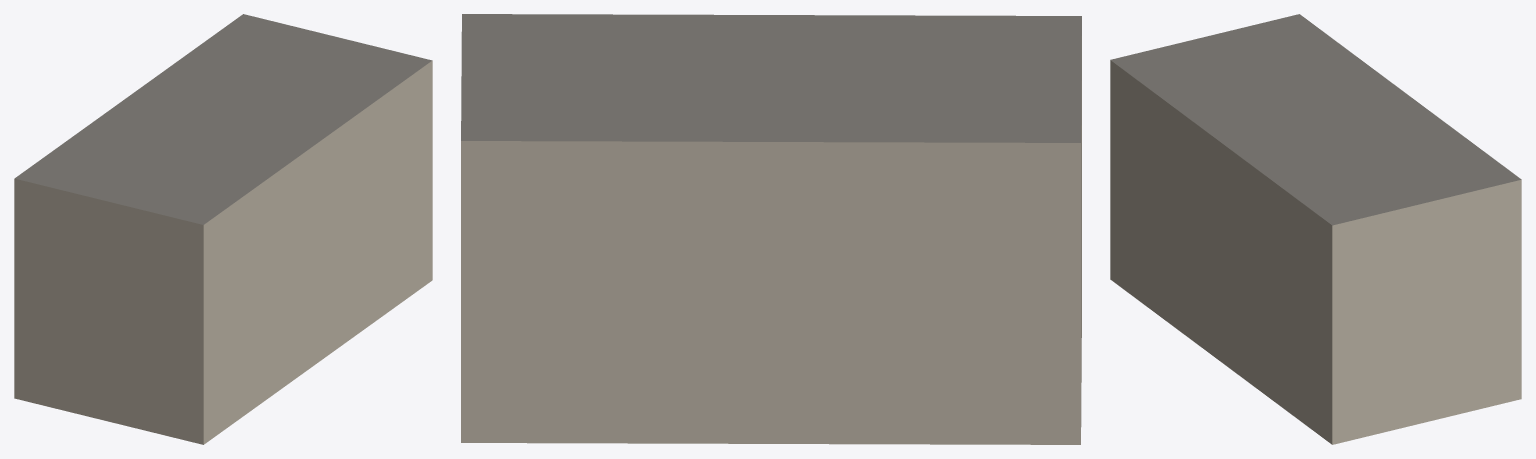
The picture shows the model from 3 angles, left to right: view 1: azimuth 30°, elevation 25°; view 2: azimuth 150°, elevation 25°; view 3: azimuth 270°, elevation 25°; orthographic projection. The views are drawn at different scales.
Parts seen in each view (by area): view 1: HP-w859082582; view 2: HP-w859082582; view 3: HP-w859082582.
Part boxes in pixels (box(x1,y1,x2,y2)): HP-w859082582: box(14, 14, 432, 444); HP-w859082582: box(461, 14, 1081, 444); HP-w859082582: box(1110, 14, 1521, 444).
Bounding box in the file's own units: 37.21 × 18 × 30.6.
